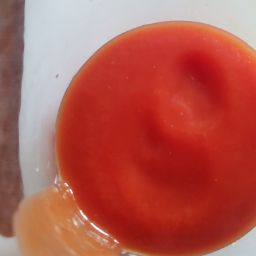Tomato paste: (78, 22, 254, 247), (10, 188, 145, 256)
